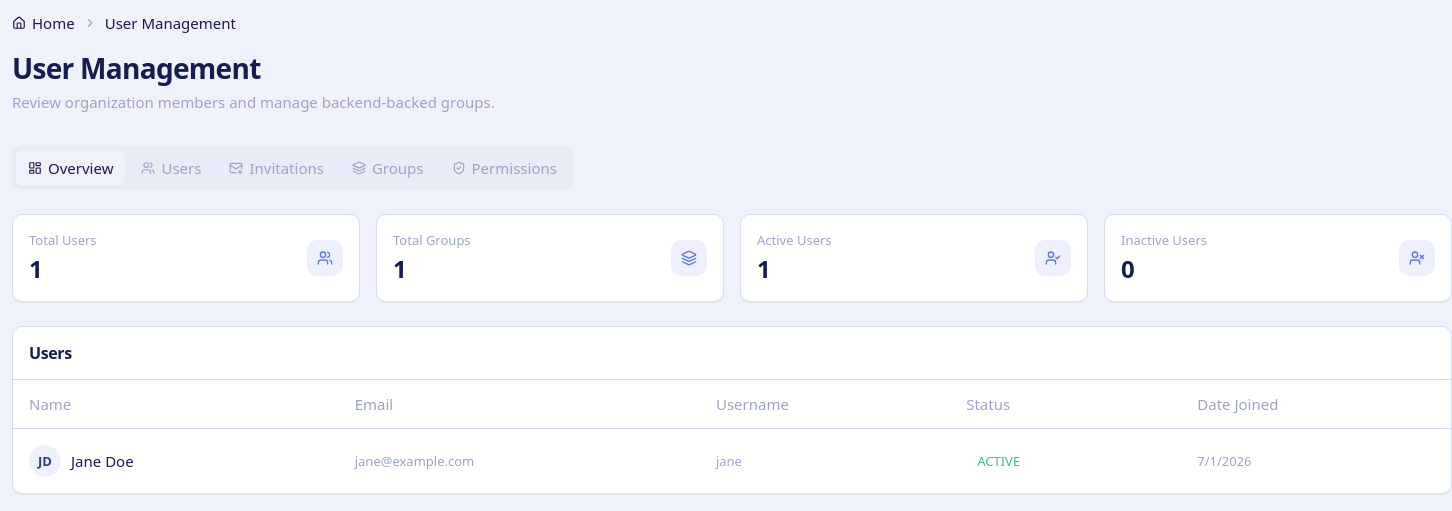
Test: caching and lazy loading › does not fetch the permission catalog until its tab is opened
Expected: the text "Total Users" is shown, [29, 231, 97, 249]
Expected: the text "Jane Doe" is shown, [71, 450, 134, 472]
Press the mouse on the tab "Permissions" at (504, 168), box [440, 150, 569, 186]
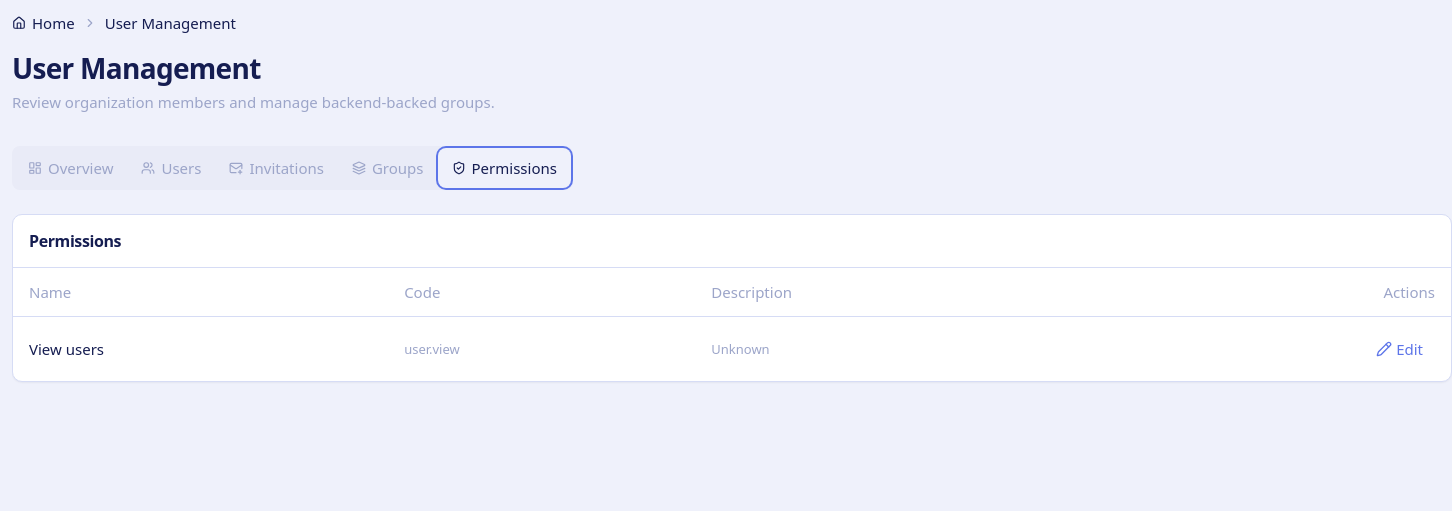
Expected: the text "View users" is shown, [13, 316, 388, 381]
